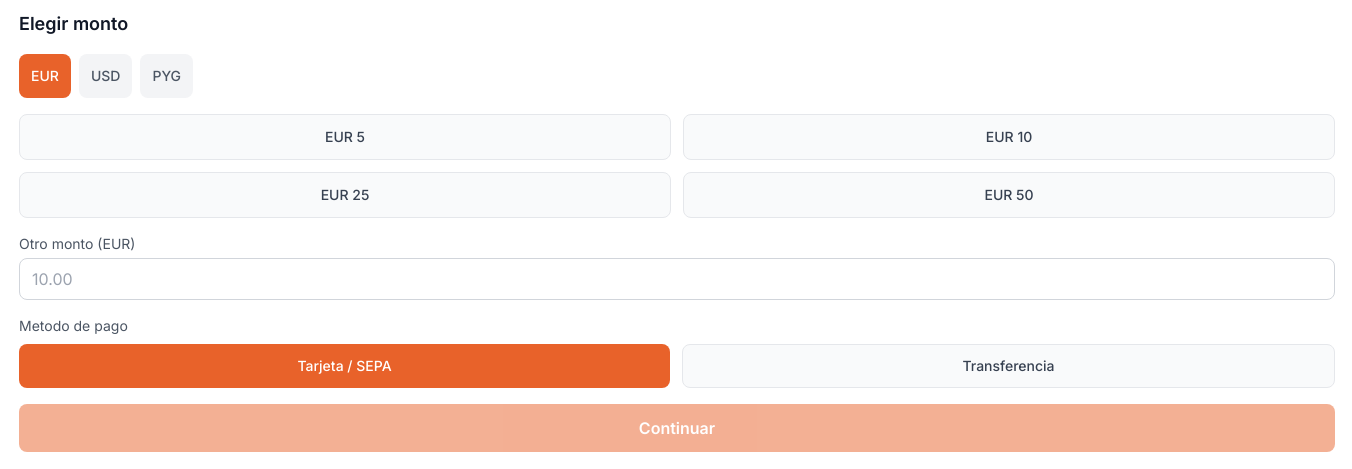
Scenario: DonationForm — amount step › Continue button is enabled after selecting a preset amount
What coordinates should you click on to do the following:
click the button "EUR 5"
I would click on:
 (345, 137)
Its box is x1=19 y1=114 x2=671 y2=160.
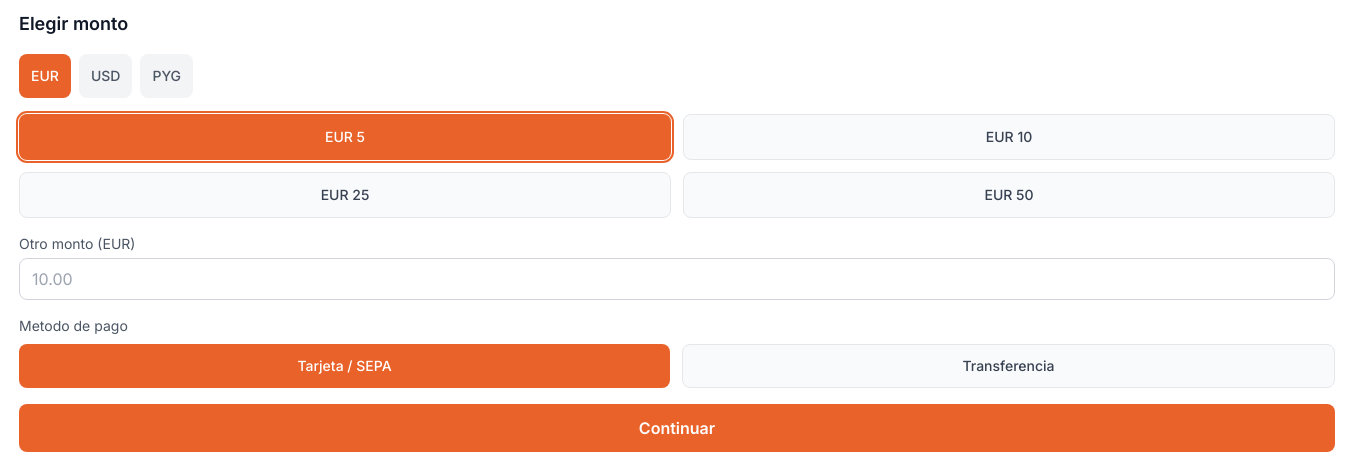
Result: the button "Continuar" is enabled at x1=19 y1=404 x2=1335 y2=452
